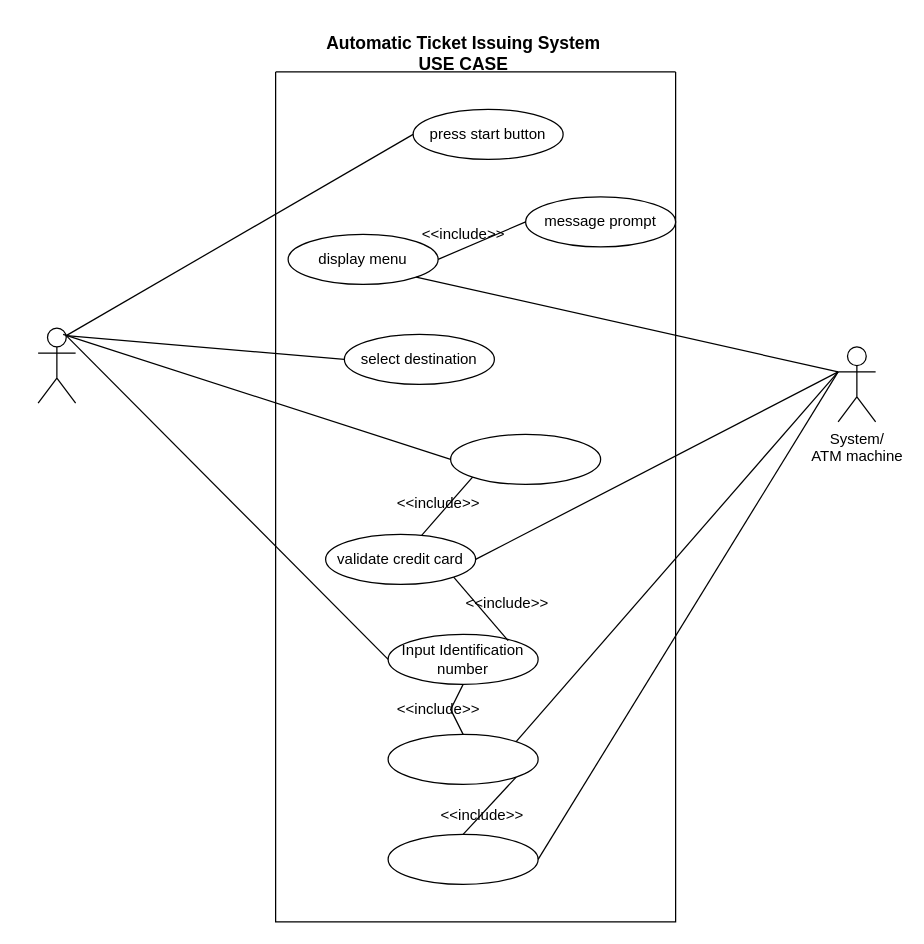
This 924x944 diagram has some shape labels left out. Each missing label, with the box of its shape:
Input credit card: (449, 433, 601, 484)
Passenger: (37, 327, 76, 403)
Pay charge/ Transactions: (387, 733, 538, 784)
Ticktect generation and printing: (387, 833, 538, 884)
